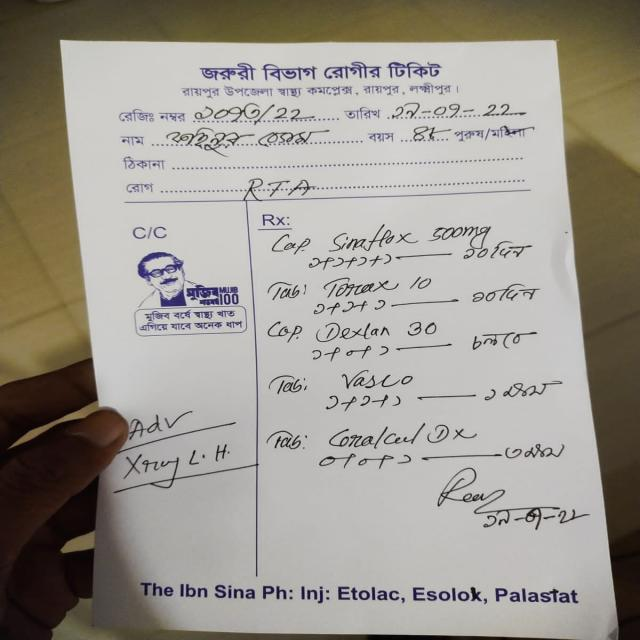Coralcal DX: (326, 422, 472, 449)
Dexlan: (318, 321, 399, 343)
Sinaflox: (322, 228, 428, 253)
Torax: (318, 276, 403, 301)
Vasco: (339, 367, 417, 393)
